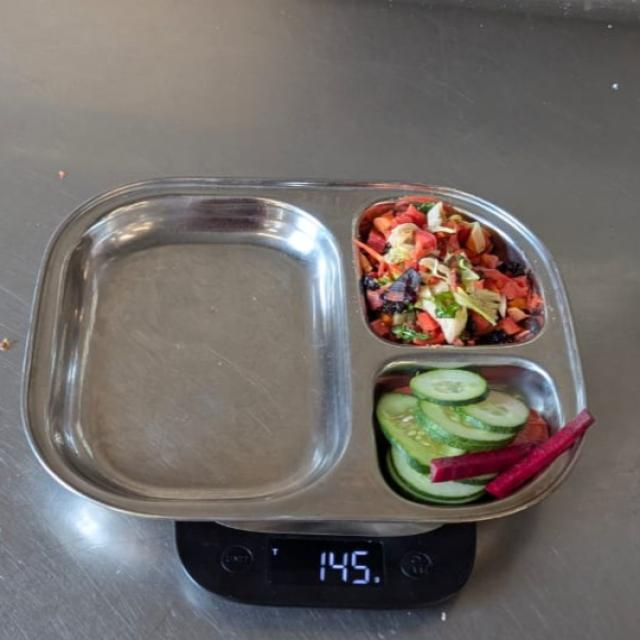Orange: (375, 366, 595, 501)
Salad: (354, 193, 543, 344)
